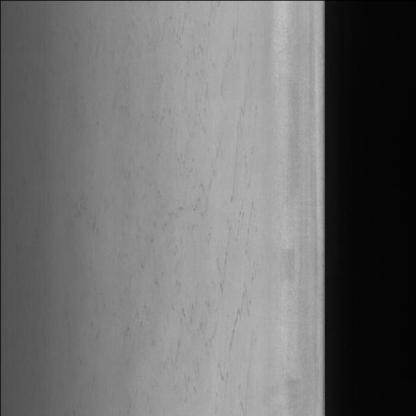silk_spot: (127, 52, 263, 397)
